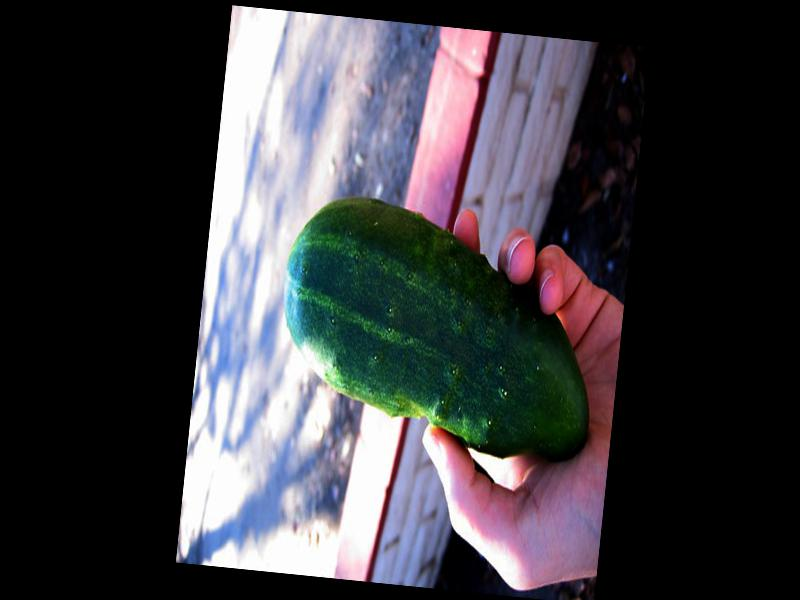Cucumber: (272, 188, 608, 463)
